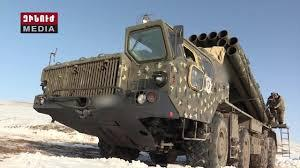MIL_SAM_TEL: (34, 21, 288, 168)
